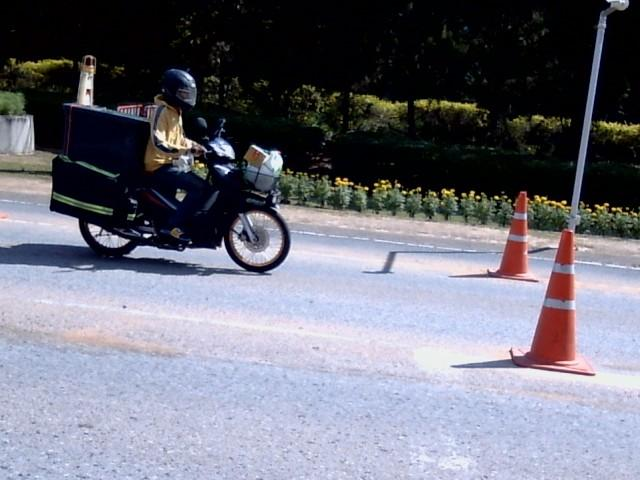helmet: (161, 69, 197, 117)
motor: (50, 104, 290, 272)
person: (144, 68, 212, 242)
